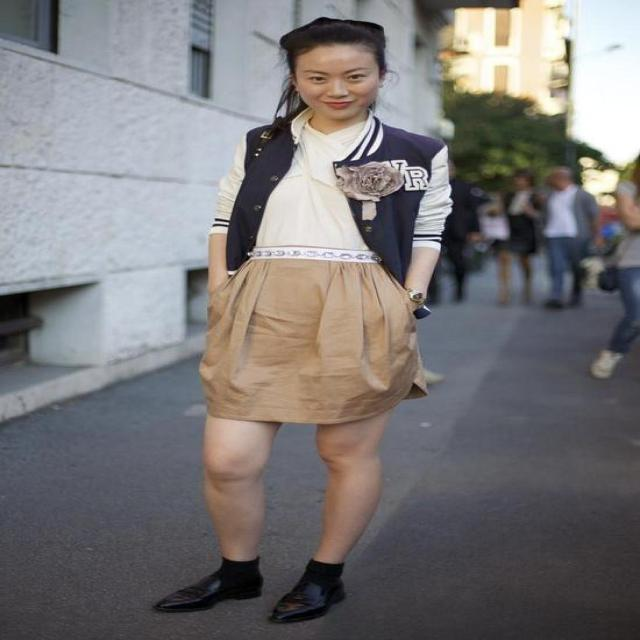skirt: (198, 243, 420, 422)
sweater: (209, 106, 454, 286)
